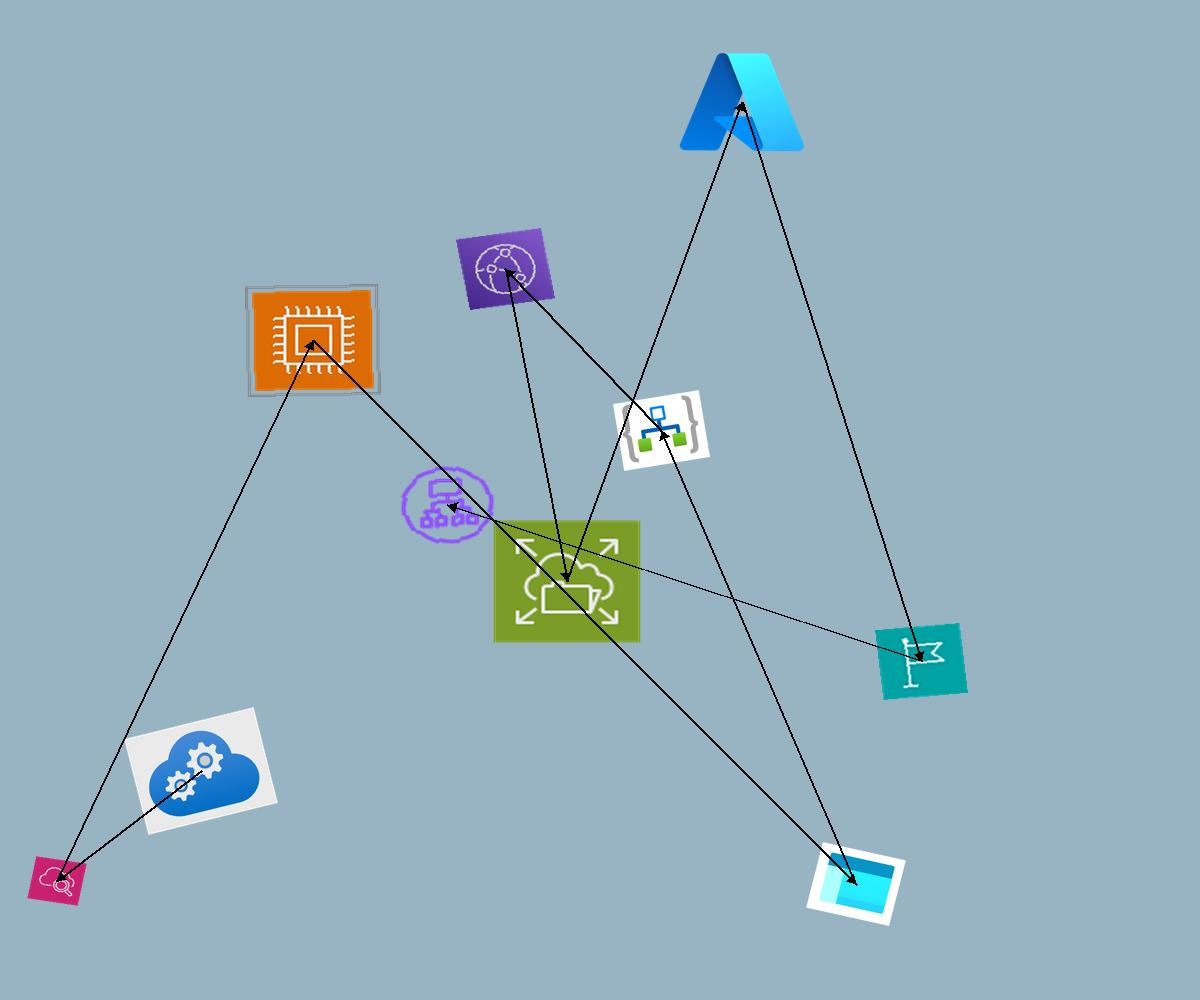AWS-Category_Compute: (245, 284, 381, 397)
AWS-CloudFront: (456, 228, 555, 310)
AWS-CloudWatch: (27, 856, 87, 906)
AWS-EFS: (492, 519, 642, 644)
AWS-Region: (875, 623, 968, 700)
AWS-Res_Elastic-Load-Balancing_Application-Load-Balancer: (391, 458, 504, 552)
Azure_cloud_services: (124, 707, 278, 835)
Azure_integration-204-Logic-Apps: (613, 390, 710, 471)
Azure_management-portal: (806, 842, 906, 926)
Azure_services: (674, 45, 811, 159)
